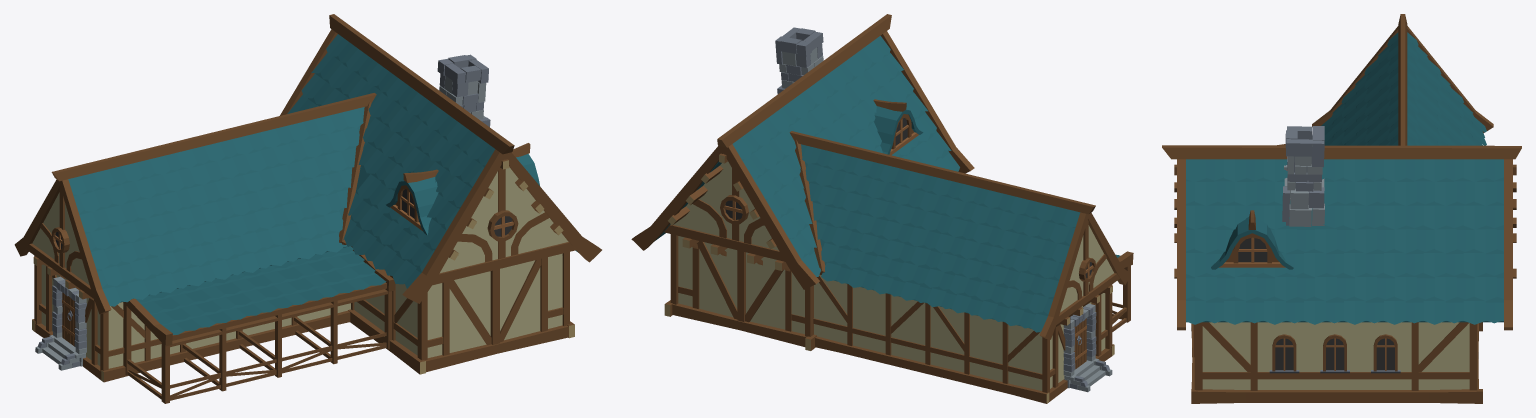
File: Stable.glb
The picture shows the model from 3 angles, left to right: view 1: azimuth 30°, elevation 25°; view 2: azimuth 150°, elevation 25°; view 3: azimuth 270°, elevation 25°; orthographic projection. The views are drawn at different scales.
Visible parts, largest first — view 1: Stable; view 2: Stable; view 3: Stable.
Boxes of the visible parts, bbox=[...] form: Stable: bbox=[14, 14, 601, 403]; Stable: bbox=[631, 14, 1133, 403]; Stable: bbox=[1162, 14, 1521, 403].
Size of the model in its own units: 4.7 by 2.49 by 3.33.
